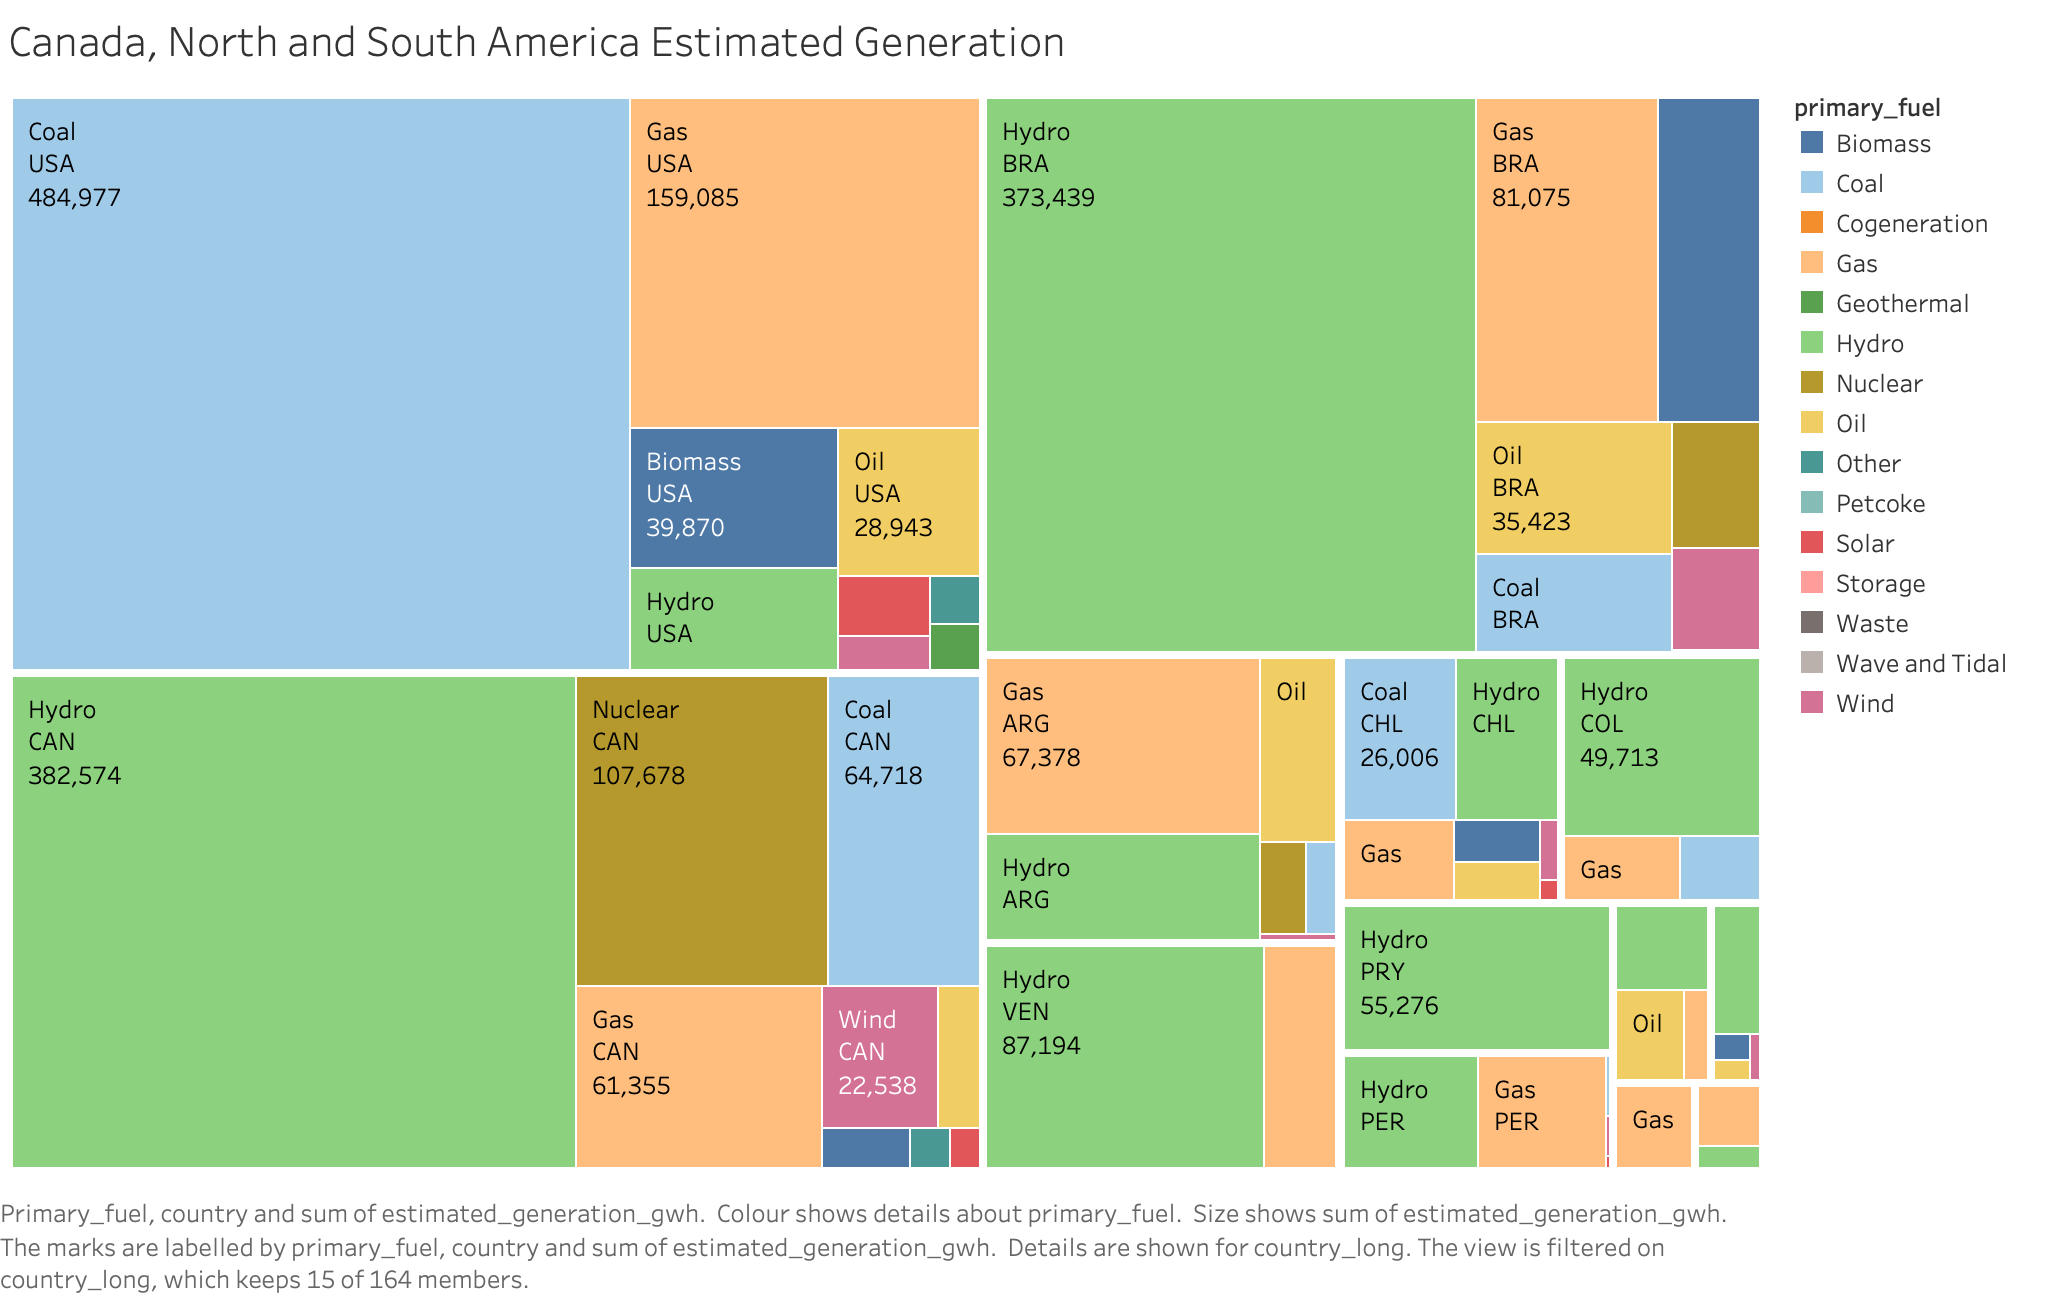

The dashboard page shown, as its layout file describes it:
{"tool":"tableau","page":{"name":"Dashboard 1","canvas":[1000,800],"ordinal":0},"visuals":[{"type":"worksheet","title":"Sheet 3","mark":"Automatic","box":[8,8,824,392]},{"type":"legend","title":"Sheet 3","param":"[federated.1jh35lo12rckte1b9hq731qftkwm].[avg:estimated_generation_gwh:qk]","box":[832,8,160,65]},{"type":"legend","title":"Sheet 2","param":"[federated.1jh35lo12rckte1b9hq731qftkwm].[none:primary_fuel:nk]","box":[832,73,160,326]},{"type":"worksheet","title":"Sheet 2","mark":"Automatic","box":[8,400,824,392]}]}

Visuals, with their boxes on the page's 1000x800 design canvas (x1, y1, x2, y2). These are canvas units, not pixel positions in the 2072x1298 screenshot, which may show the page scaled, cropped or inside an application window:
"Sheet 3" worksheet: (x1=8, y1=8, x2=832, y2=400)
"Sheet 3" legend: (x1=832, y1=8, x2=992, y2=73)
"Sheet 2" legend: (x1=832, y1=73, x2=992, y2=399)
"Sheet 2" worksheet: (x1=8, y1=400, x2=832, y2=792)
